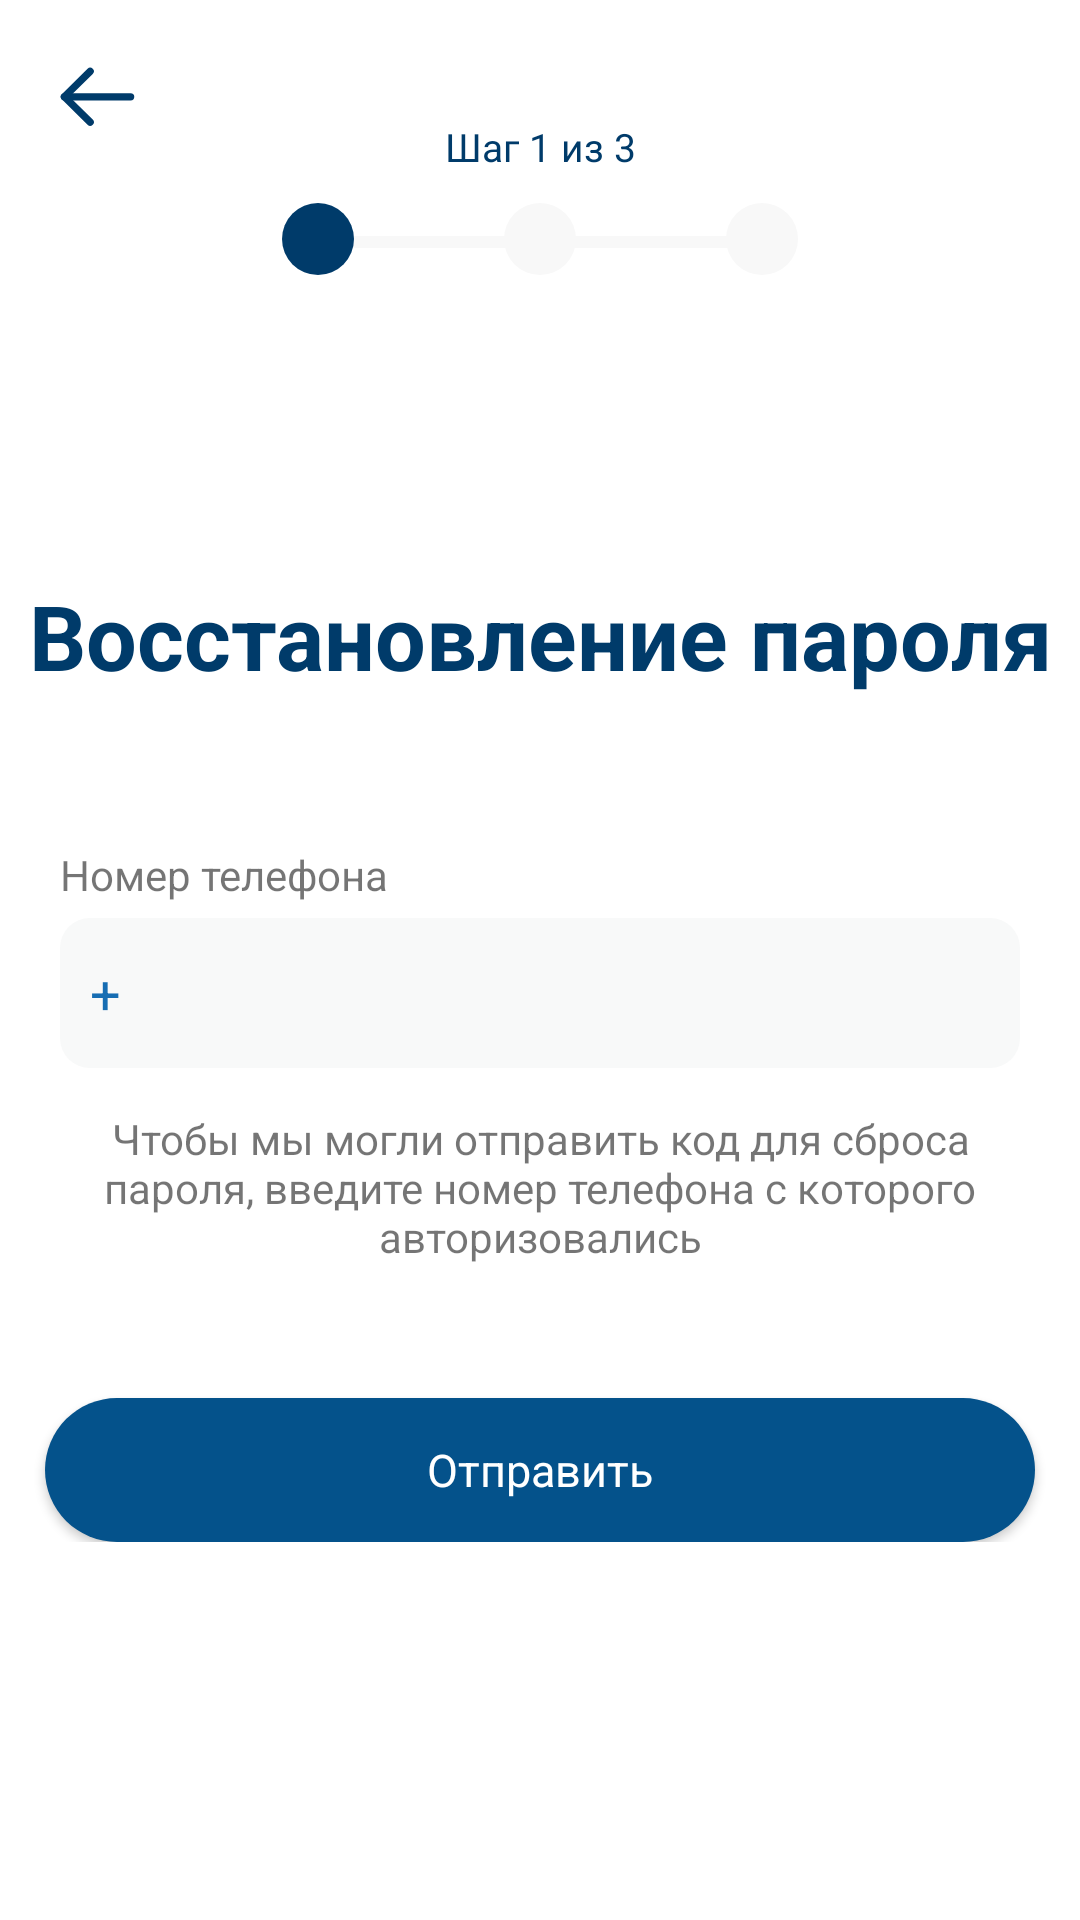

Icon click points for this 1080x1920 phone screenshot, format point (x, y):
back cursor: point (97, 96)
